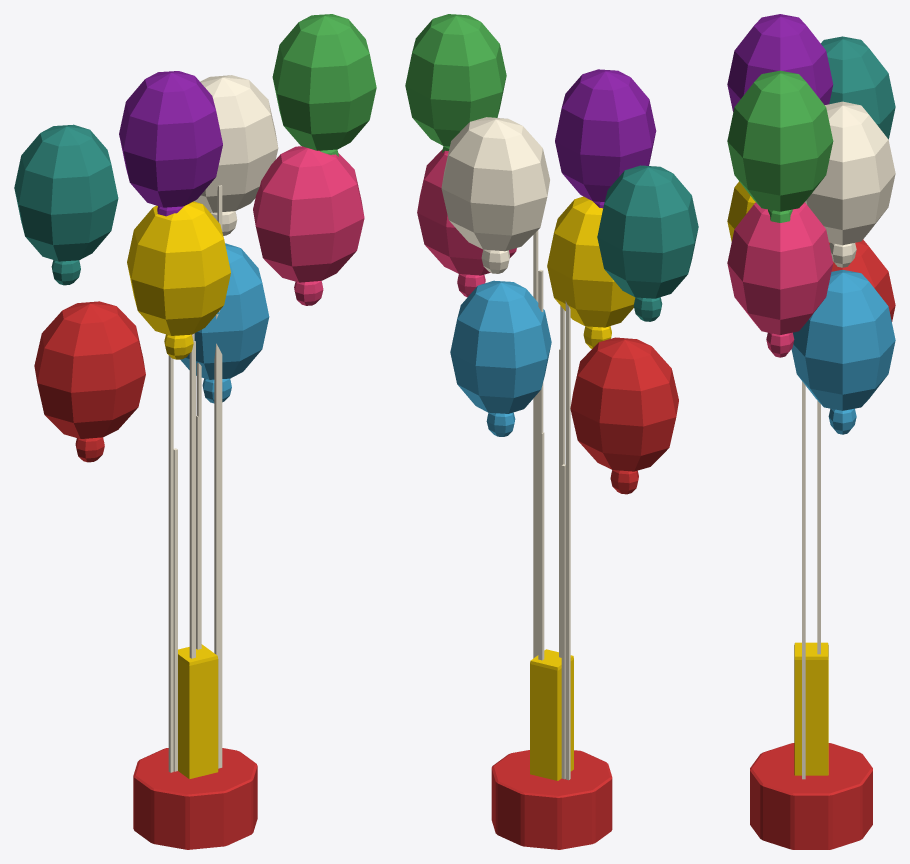
File: balloon_bunch.glb
The picture shows the model from 3 angles, left to right: view 1: azimuth 30°, elevation 25°; view 2: azimuth 150°, elevation 25°; view 3: azimuth 270°, elevation 25°; orthographic projection. The views are drawn at different scales.
Visible parts, largest first — view 1: Balloon, Balloon.003, Balloon.007, Balloon.004, Balloon.005, Balloon.001, Balloon weight, Balloon.006, Balloon.002, Balloon bunch ribbon, Balloon string.004, Balloon string.003 (+6 smaller); view 2: Balloon.006, Balloon, Balloon.004, Balloon.002, Balloon.007, Balloon weight, Balloon.005, Balloon.001, Balloon bunch ribbon, Balloon.003, Balloon string.004, Balloon string (+10 smaller); view 3: Balloon.007, Balloon weight, Balloon.003, Balloon.002, Balloon.006, Balloon.005, Balloon bunch ribbon, Balloon.004, Balloon string.007, Balloon, Balloon string.006, Balloon.001 (+3 smaller).
Boxes of the visible parts, box(x1,y1,x2,y2) form: Balloon: box(34, 301, 145, 438); Balloon.003: box(253, 146, 364, 282); Balloon.007: box(272, 14, 376, 150); Balloon.004: box(14, 124, 118, 261); Balloon.005: box(119, 71, 222, 207); Balloon.001: box(127, 201, 230, 335); Balloon weight: box(133, 748, 257, 849); Balloon.006: box(194, 75, 278, 212); Balloon.002: box(180, 243, 269, 379); Balloon bunch ribbon: box(178, 644, 218, 778); Balloon string.004: box(168, 355, 173, 772); Balloon string.003: box(214, 314, 219, 768); Balloon.006: box(441, 117, 549, 251); Balloon: box(570, 337, 678, 471); Balloon.004: box(597, 165, 698, 298); Balloon.002: box(450, 280, 551, 413); Balloon.007: box(405, 14, 506, 146); Balloon weight: box(491, 750, 612, 849); Balloon.005: box(555, 69, 656, 201); Balloon.001: box(547, 196, 635, 327); Balloon bunch ribbon: box(530, 649, 573, 780); Balloon.003: box(417, 149, 516, 275); Balloon string.004: box(565, 301, 570, 780); Balloon string: box(561, 464, 565, 779); Balloon.007: box(727, 70, 833, 211); Balloon weight: box(750, 743, 872, 849); Balloon.003: box(727, 202, 833, 334); Balloon.002: box(791, 269, 895, 410); Balloon.006: box(805, 101, 895, 245); Balloon.005: box(727, 14, 833, 111); Balloon bunch ribbon: box(794, 642, 828, 775); Balloon.004: box(821, 36, 895, 139); Balloon string.007: box(802, 381, 805, 779); Balloon: box(829, 239, 895, 321); Balloon string.006: box(817, 400, 820, 654); Balloon.001: box(727, 181, 755, 241).
Bounding box in the file's own units: 1.22 × 2.86 × 0.54.
